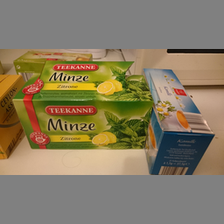tea: (11, 71, 155, 150), (141, 66, 214, 174)
